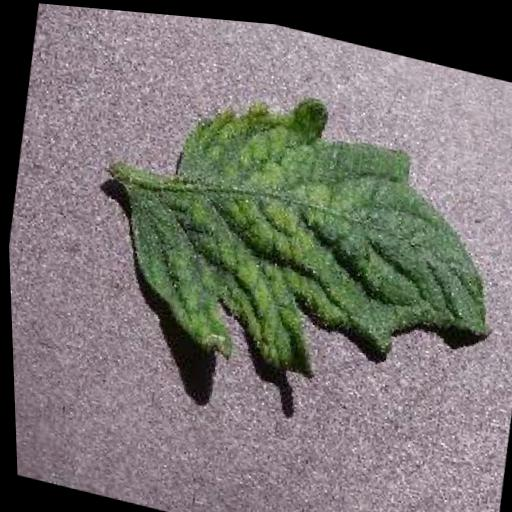Mosaic Virus: (96, 52, 512, 414)
